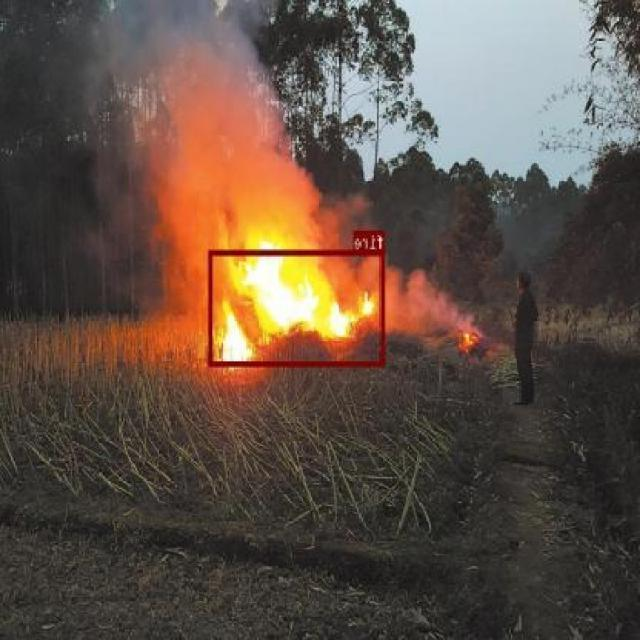Fire: (192, 218, 366, 374)
Smoke: (90, 0, 345, 263), (325, 246, 488, 338)
